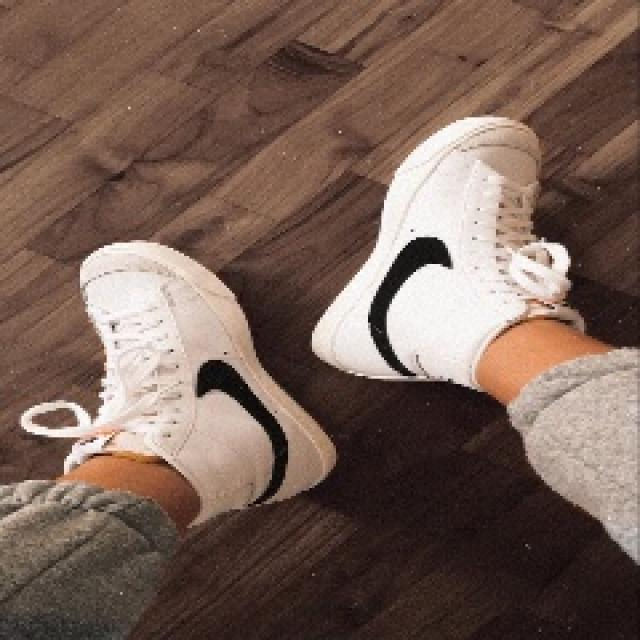shoes: (54, 218, 338, 518), (305, 108, 592, 390)
